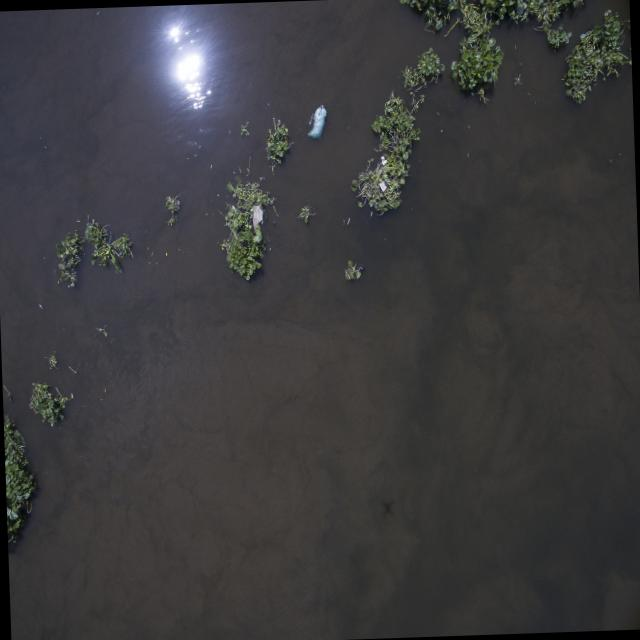Plastic: (305, 104, 329, 136), (252, 202, 265, 245), (378, 178, 387, 190), (379, 155, 388, 166)
